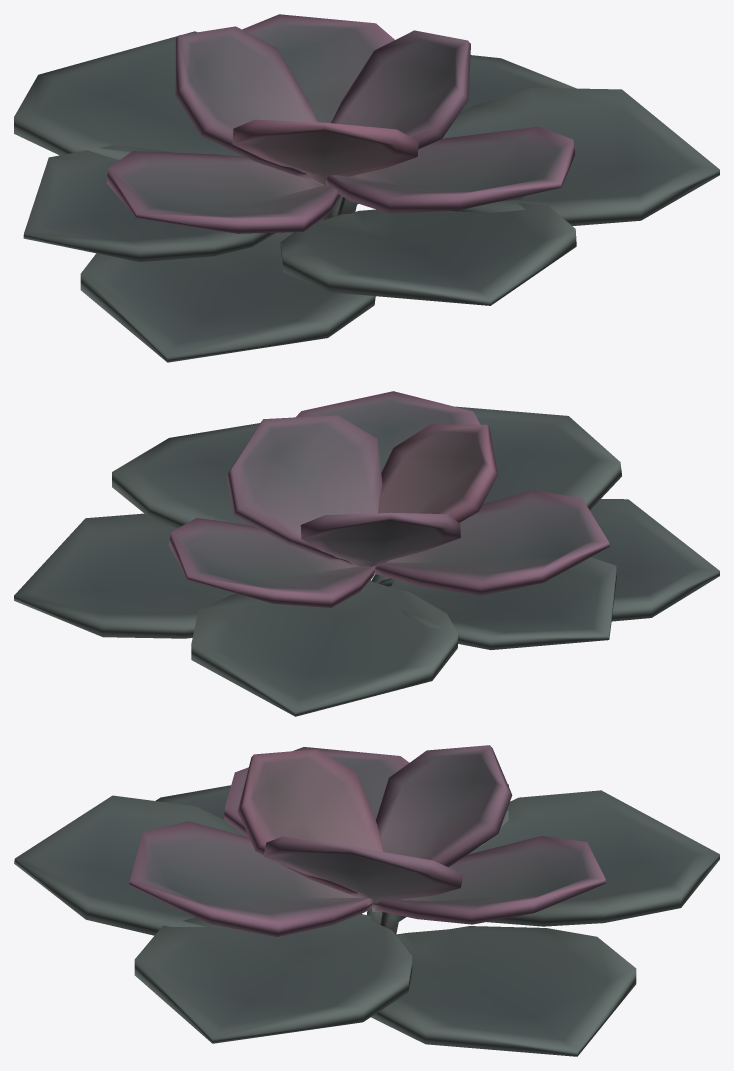
The model's file is plants-cacti-succulents-purple-succulent_v2.fbx.
3 renders of one model, top to bottom at view 1: azimuth 30°, elevation 25°; view 2: azimuth 150°, elevation 25°; view 3: azimuth 270°, elevation 25°, orthographic. The views are drawn at different scales.
Parts seen in each view (by area): view 1: Purple Succulent_v2; view 2: Purple Succulent_v2; view 3: Purple Succulent_v2.
Boxes of the visible parts, x1,y1,x2,y2 form: Purple Succulent_v2: (14,14,719,362); Purple Succulent_v2: (14,391,719,716); Purple Succulent_v2: (14,745,719,1056).
Size of the model in its own units: 0.1357 by 0.0535 by 0.15.
